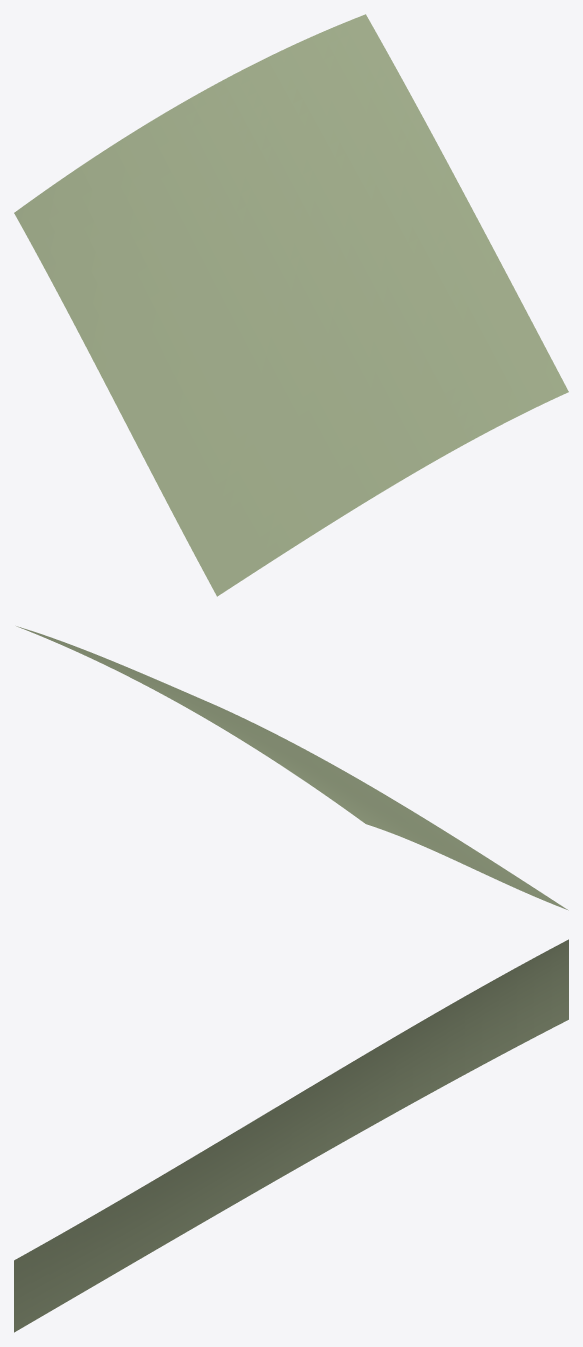
Rendered from alpine-7-8.glb.
The picture shows the model from 3 angles, top to bottom: view 1: azimuth 30°, elevation 25°; view 2: azimuth 150°, elevation 25°; view 3: azimuth 270°, elevation 25°; orthographic projection. The views are drawn at different scales.
Visible parts, largest first — view 1: alpine-7-8; view 2: alpine-7-8; view 3: alpine-7-8.
Part boxes in pixels (x1,y1,x2,y2): alpine-7-8: [14, 14, 568, 596]; alpine-7-8: [16, 626, 568, 910]; alpine-7-8: [14, 939, 568, 1332].
Size of the model in its own units: 256 by 242 by 256.
